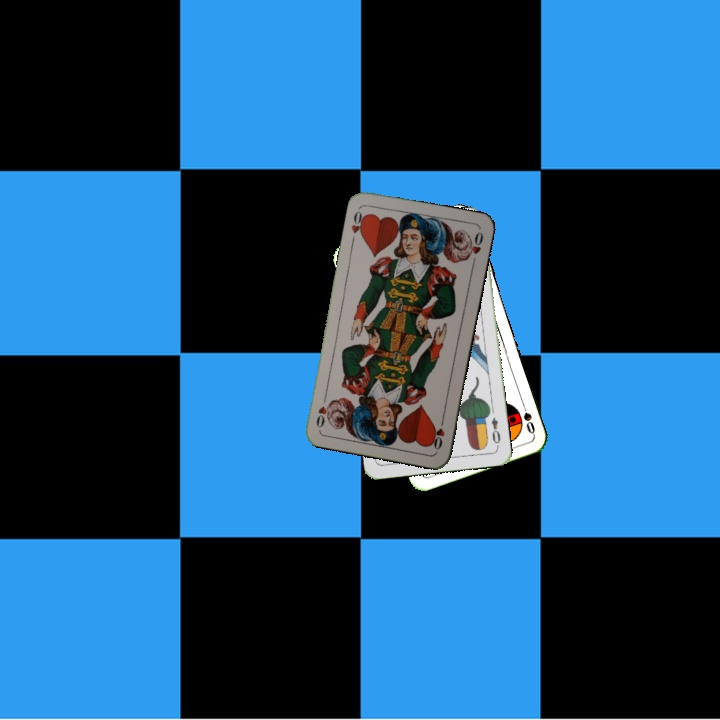EO: (487, 413, 503, 449)
HO: (347, 204, 369, 240), (428, 412, 447, 452)
SO: (518, 397, 538, 437)
